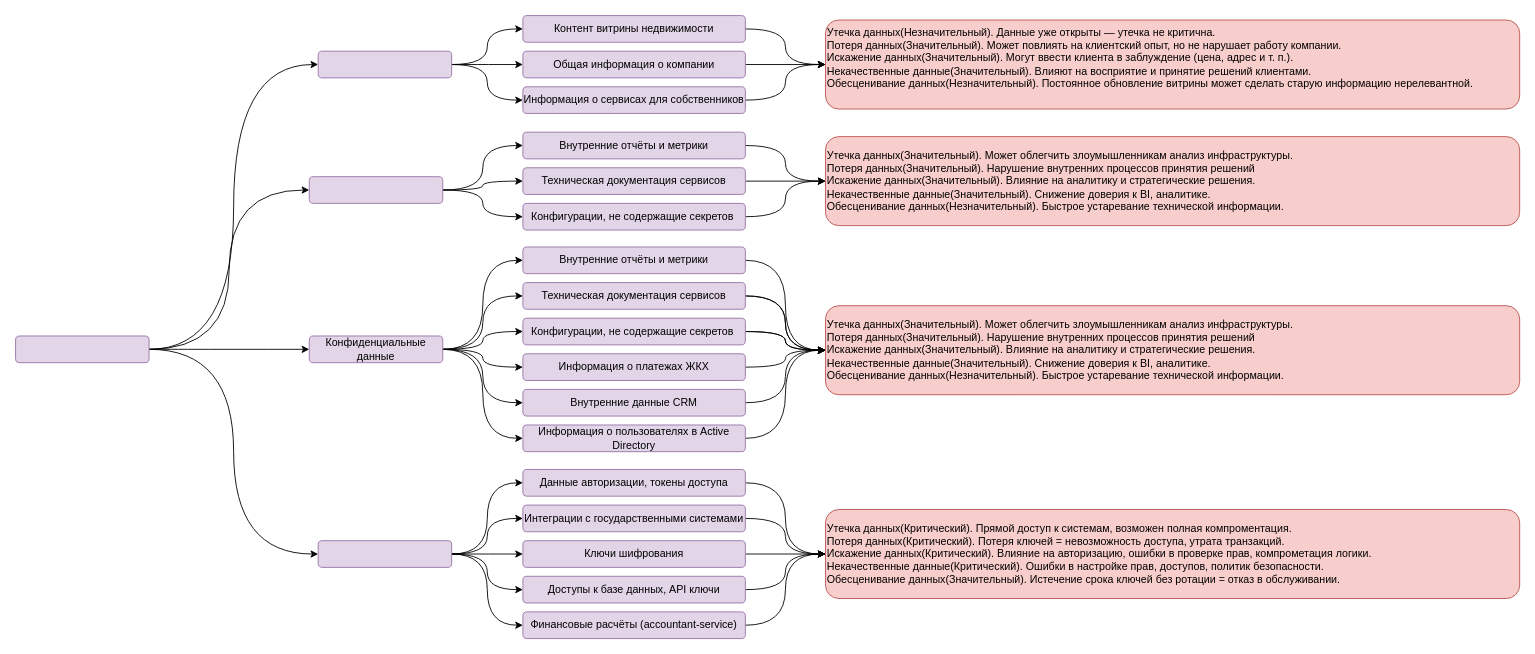
Image size: 1535x654. Some labels were removed from this diagram. Each missing label, with the centre of its shape:
"Безопасность данных" belongs at point 82,349.
"Внутренние данные" belongs at point 375,189.
"Публичные данные" belongs at point 384,64.
"Секретные данные" belongs at point 384,553.
